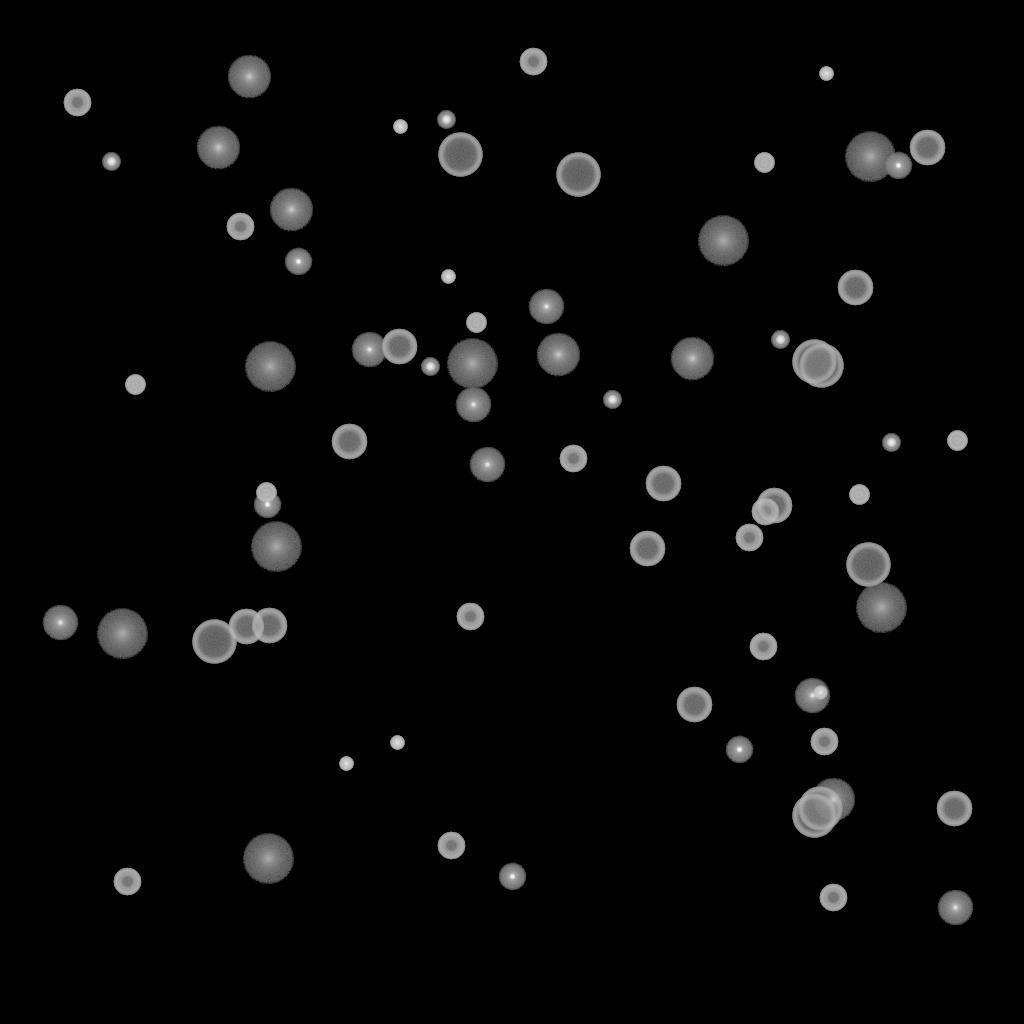depth:-10: (498, 863, 526, 891), (284, 248, 312, 276), (253, 491, 281, 519), (884, 152, 912, 180), (725, 736, 753, 764)
depth:-20: (421, 358, 439, 376), (437, 111, 455, 129), (102, 153, 120, 171), (603, 391, 621, 409), (771, 331, 789, 349), (882, 434, 900, 452)
depth:-30: (339, 757, 353, 771), (441, 270, 455, 284), (819, 67, 833, 81), (390, 736, 404, 750), (813, 686, 827, 700), (393, 120, 407, 134)
depth:-40: (947, 431, 967, 451), (849, 485, 869, 505), (754, 153, 774, 173), (256, 483, 276, 503), (466, 313, 486, 333), (125, 375, 145, 395)
depth:-50: (735, 524, 763, 552), (751, 498, 779, 526), (559, 445, 587, 473), (819, 884, 847, 912), (113, 868, 141, 896), (226, 213, 254, 241), (63, 89, 91, 117), (519, 48, 547, 76), (749, 633, 777, 661), (810, 728, 838, 756), (437, 832, 465, 860), (456, 603, 484, 631)
depth:-60: (756, 488, 792, 524), (381, 329, 417, 365), (936, 791, 972, 827), (331, 424, 367, 460), (645, 466, 681, 502), (228, 609, 264, 645), (676, 687, 712, 723), (251, 608, 287, 644), (909, 130, 945, 166), (629, 531, 665, 567), (837, 270, 873, 306)
depth:-70: (556, 153, 600, 197), (846, 543, 890, 587), (192, 620, 236, 664), (438, 133, 482, 177), (792, 340, 836, 384), (798, 787, 842, 831), (799, 344, 843, 388), (792, 794, 836, 838)
depth:0: (794, 678, 830, 714), (455, 387, 491, 423), (528, 289, 564, 325), (937, 890, 973, 926), (469, 447, 505, 483), (351, 332, 387, 368), (42, 605, 78, 641)
depth:10: (536, 333, 580, 377), (670, 337, 714, 381), (227, 55, 271, 99), (269, 188, 313, 232), (196, 126, 240, 170), (811, 778, 855, 822)
depth:20: (855, 583, 907, 633), (446, 339, 498, 389), (244, 342, 296, 392), (844, 132, 896, 182), (242, 834, 294, 884), (697, 216, 749, 266), (250, 522, 302, 572), (96, 609, 148, 659)
